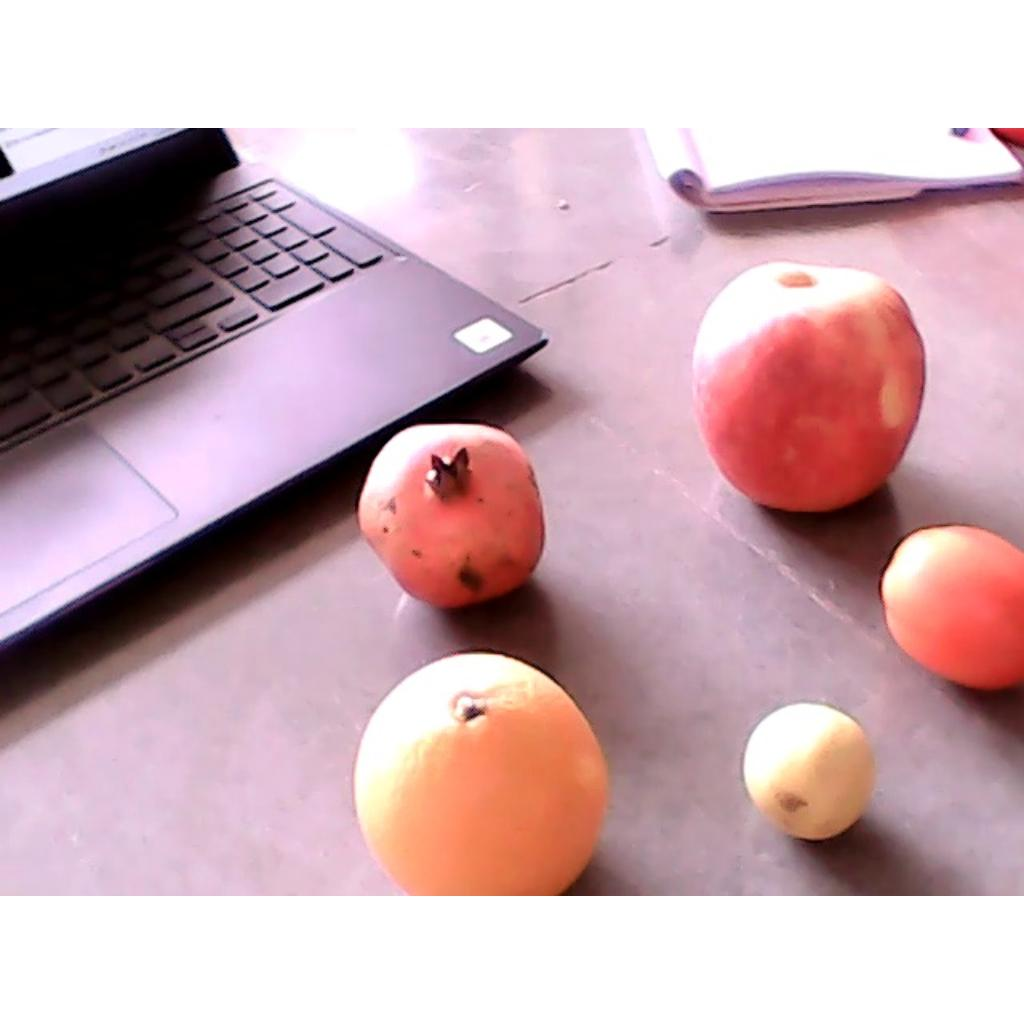apple: (690, 261, 925, 514)
lemon: (744, 702, 875, 840)
orange: (355, 652, 609, 894)
pomegranate: (358, 426, 548, 609)
tomato: (882, 524, 1022, 690)
